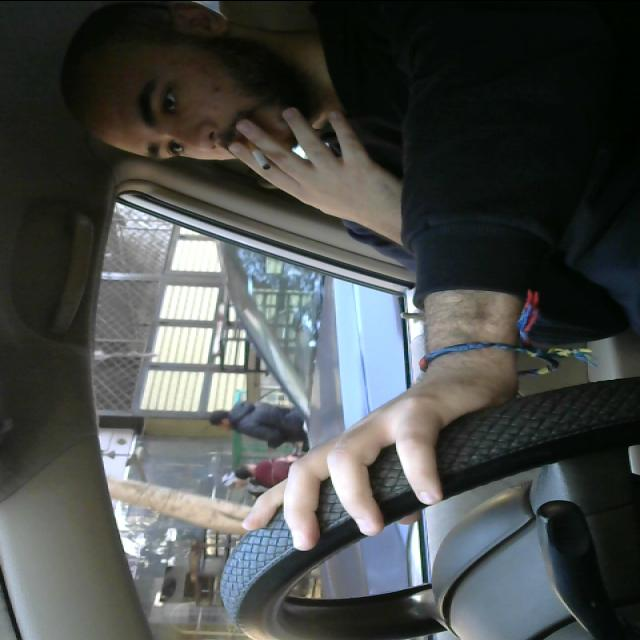smoking: (238, 132, 278, 172)
